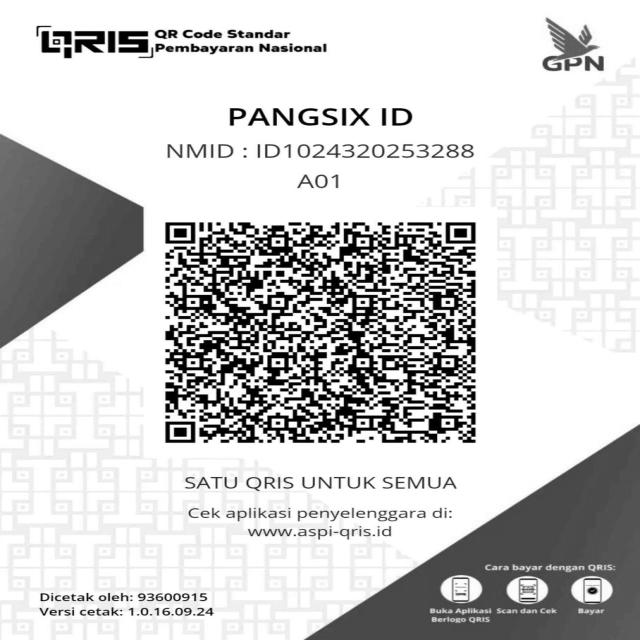acquirer: (30, 586, 224, 605)
nama_merchant: (219, 99, 425, 130)
nmid: (158, 139, 492, 162)
qrcode: (150, 216, 494, 447)
tid: (284, 172, 365, 194)
